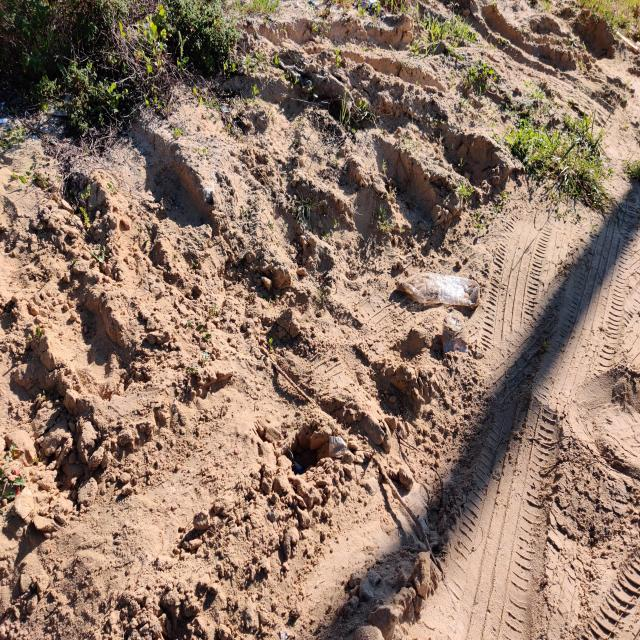litter: (395, 273, 481, 306), (441, 315, 470, 357)
